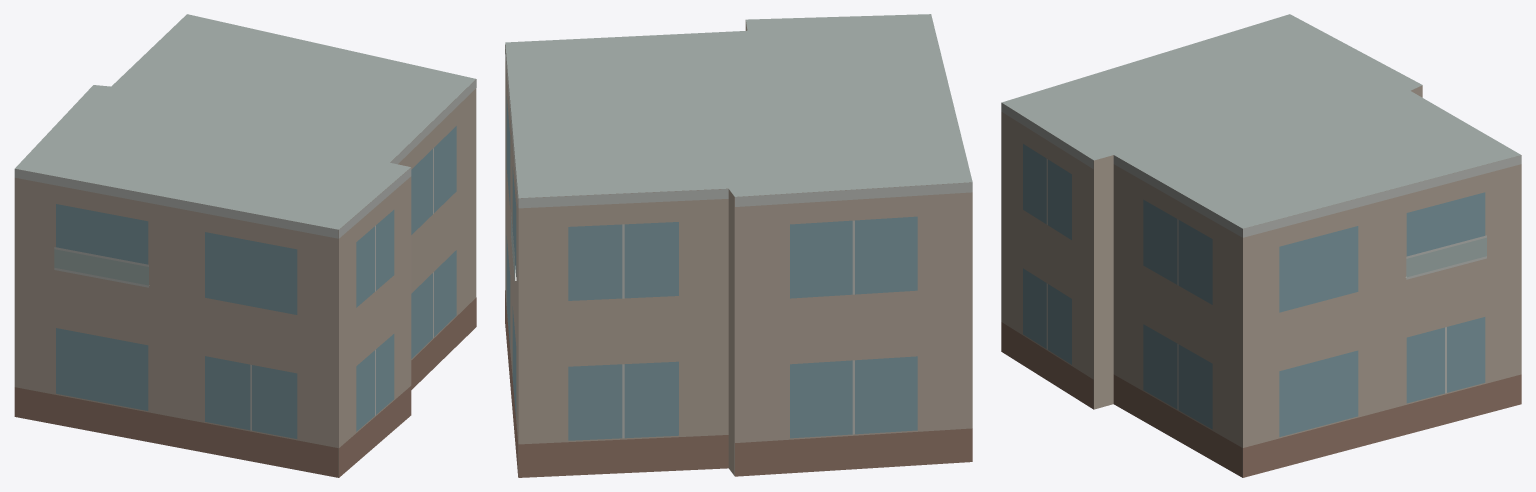
File: survey-upis-32635879.glb
3 views of the same model, side by side, from view 1: azimuth 30°, elevation 25°; view 2: azimuth 150°, elevation 25°; view 3: azimuth 270°, elevation 25° (orthographic). The views are drawn at different scales.
Parts seen in each view (by area): view 1: survey-upis-32635879.tmp; view 2: survey-upis-32635879.tmp; view 3: survey-upis-32635879.tmp.
Part boxes in pixels (x1,y1,x2,y2): survey-upis-32635879.tmp: (14, 14, 476, 477); survey-upis-32635879.tmp: (505, 14, 972, 477); survey-upis-32635879.tmp: (1001, 14, 1521, 477).
Bounding box in the file's own units: 12.39 × 6.7 × 12.69.
